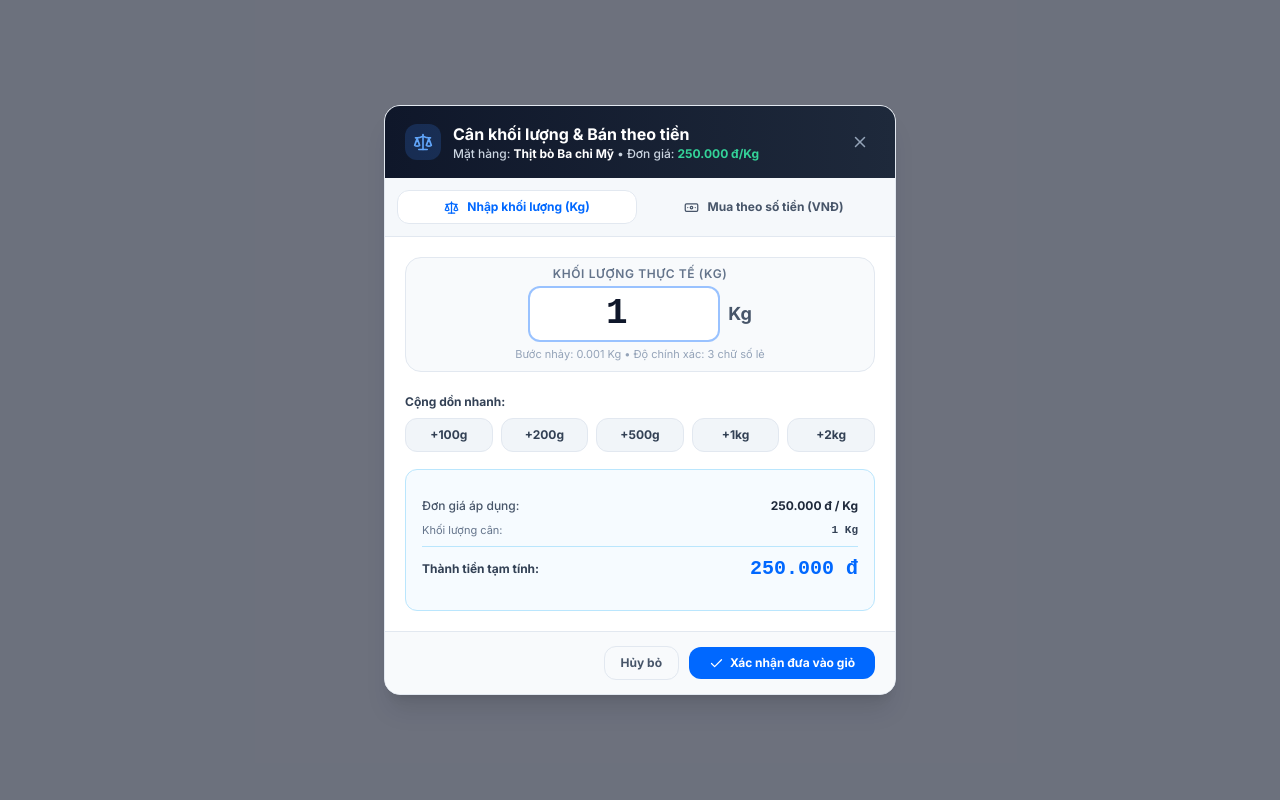
Scenario: NCL-02-CN-008: Bán hàng theo cân với số lượng thập phân › 1. WeightScaleModal Component › switches to 'Mua theo số tiền' tab and displays quick money buttons
Click the button "Mua theo số tiền (VNĐ)". click: coordinates (764, 207)
box: [645, 190, 883, 224]
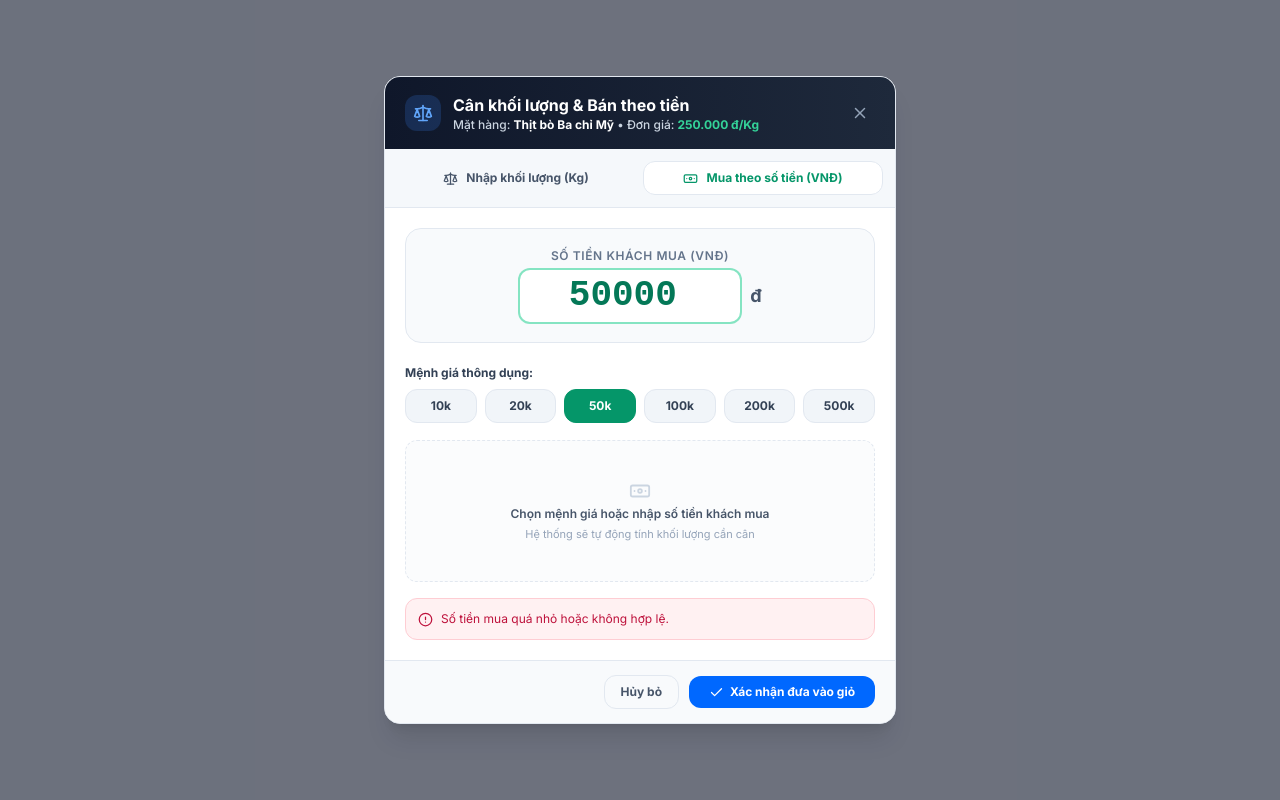
Expected: the button "10k" is shown, [405, 389, 477, 423]
Expected: the button "20k" is shown, [485, 389, 556, 423]
Expected: the button "50k" is shown, [564, 389, 636, 423]
